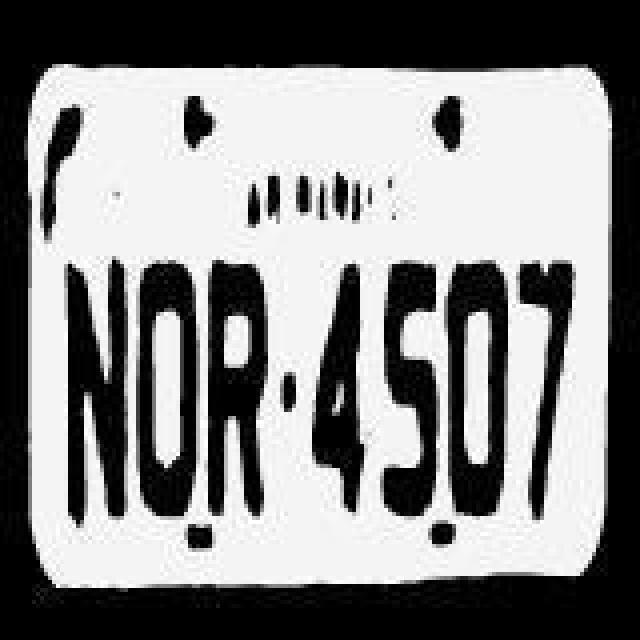4: (308, 254, 380, 522)
5: (378, 248, 446, 520)
7: (514, 240, 582, 528)
N: (58, 254, 134, 530)
O: (446, 244, 514, 524), (132, 262, 204, 522)
R: (204, 260, 284, 524)
